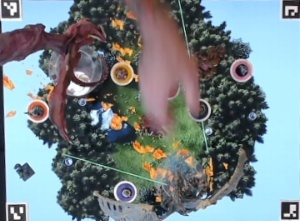blue: (189, 98, 214, 122)
orange: (22, 97, 53, 124)
pink: (228, 56, 254, 84)
red: (159, 77, 184, 100)
violet: (109, 177, 140, 203)
yellow: (109, 59, 136, 84)
